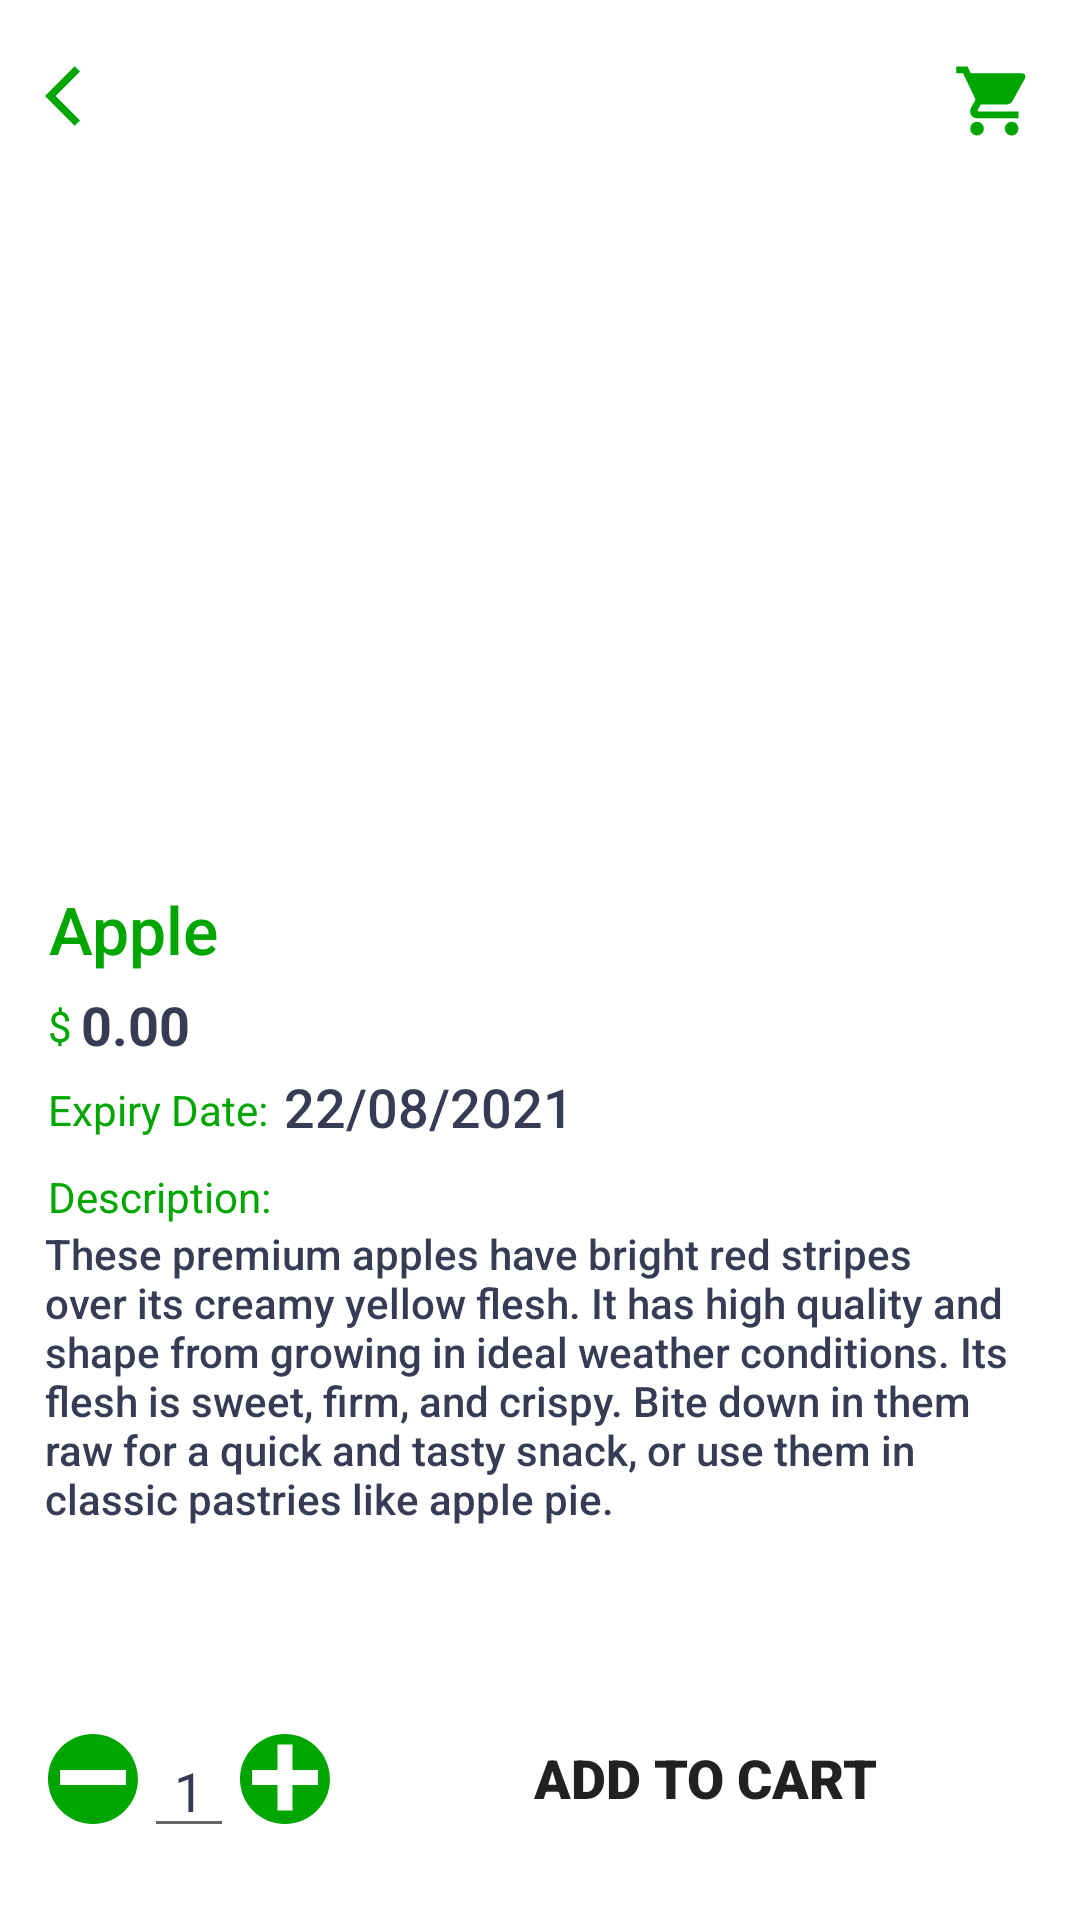

Where to tap for icons on this 1080px x 1920px app screen, as (x,y):
back: (62,96)
detail minus: (93,1779)
detail plus: (285,1779)
